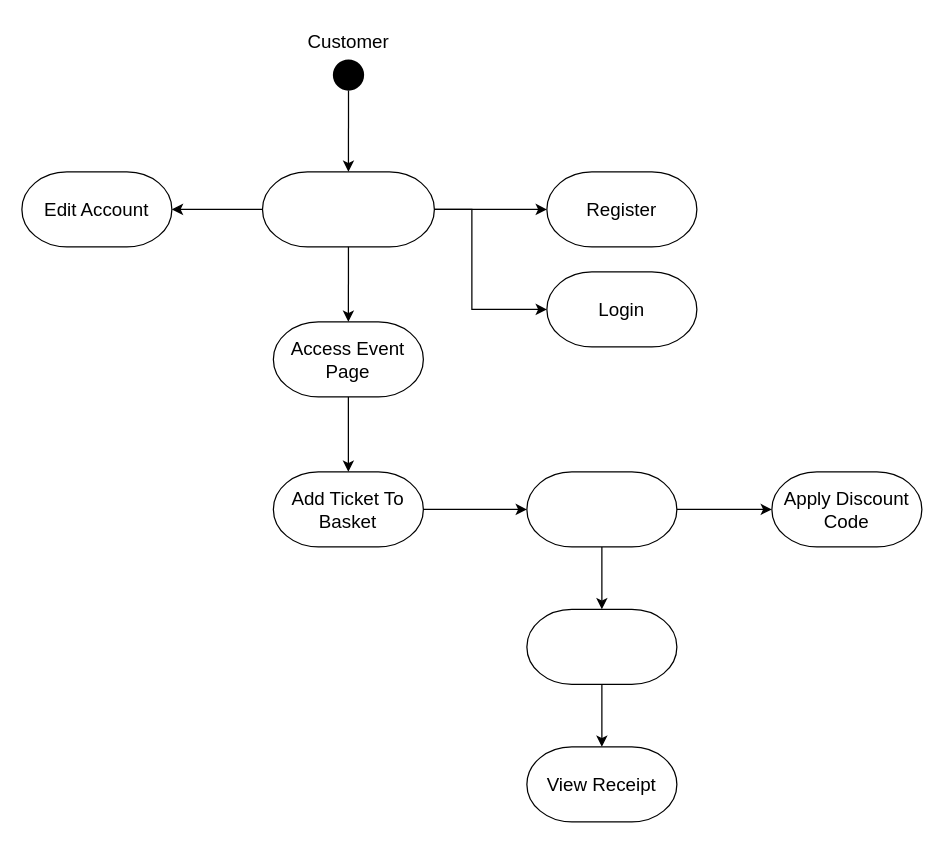
Image size: 944x844. Some labels were removed from this diagram. Each missing label, with the centre of its shape:
Access Home Page (with event list): pixel 347 209
Place Order: pixel 601 646
View Basket: pixel 601 509
